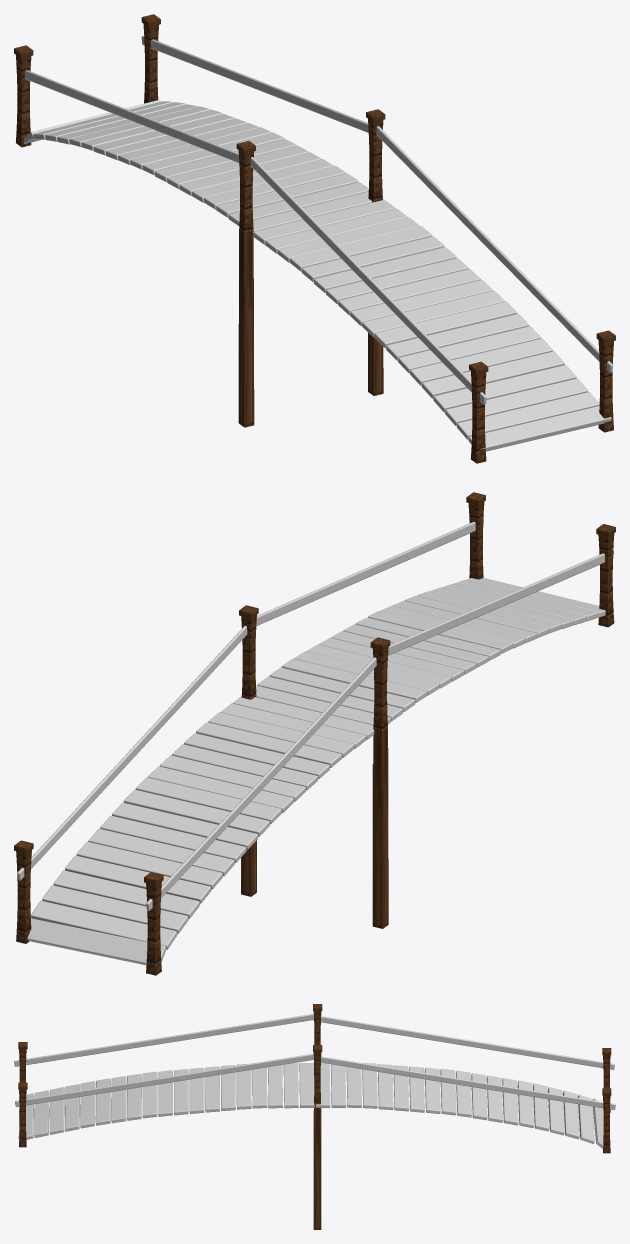
The model's file is bridge.fbx.
3 renders of one model, top to bottom at view 1: azimuth 30°, elevation 25°; view 2: azimuth 150°, elevation 25°; view 3: azimuth 270°, elevation 25°, orthographic. The views are drawn at different scales.
Parts seen in each view (by area): view 1: Würfel_5, Würfel_3_2, Würfel_1, Würfel_6_37, Würfel_3, Würfel_2_3, Würfel_6_35, Würfel_6_36, Würfel_6_34, Würfel_6_31, Würfel_6_29, Würfel_6_30 (+34 smaller); view 2: Würfel_5, Würfel_6_0, Würfel_3, Würfel_2_3, Würfel_6_1, Würfel_3_2, Würfel_6_2, Würfel_1, Würfel_6_3, Würfel_6_5, Würfel_6_9, Würfel_6_7 (+36 smaller); view 3: Würfel_1, Würfel_3_2, Würfel_3, Würfel_2_3, Würfel, Würfel_6_20, Würfel_6_19, Würfel_6_17, Würfel_6_21, Würfel_6_26, Würfel_6_31, Würfel_6_29 (+33 smaller).
Part boxes in pixels (x1,y1,x2,y2): Würfel_5: (238, 150, 254, 427); Würfel_3_2: (376, 126, 613, 372); Würfel_1: (250, 157, 486, 404); Würfel_6_37: (468, 406, 611, 451); Würfel_3: (141, 35, 368, 132); Würfel_2_3: (16, 68, 251, 167); Würfel_6_35: (445, 378, 588, 425); Würfel_6_36: (456, 392, 599, 439); Würfel_6_34: (433, 365, 576, 412); Würfel_6_31: (398, 326, 541, 373); Würfel_6_29: (374, 301, 517, 348); Würfel_6_30: (386, 314, 529, 360); Würfel_5: (372, 647, 388, 928); Würfel_6_0: (27, 918, 166, 965); Würfel_3: (17, 626, 247, 880); Würfel_2_3: (146, 657, 376, 910); Würfel_6_1: (30, 900, 177, 949); Würfel_3_2: (256, 519, 483, 625); Würfel_6_2: (42, 885, 188, 933); Würfel_1: (388, 550, 613, 655); Würfel_6_3: (53, 870, 199, 918); Würfel_6_5: (76, 841, 222, 889); Würfel_6_9: (123, 789, 269, 836); Würfel_6_7: (100, 815, 246, 862); Würfel_1: (14, 1014, 313, 1066); Würfel_3_2: (15, 1053, 313, 1106); Würfel_3: (321, 1056, 615, 1109); Würfel_2_3: (313, 1016, 614, 1069); Würfel: (313, 1052, 321, 1229); Würfel_6_20: (283, 1063, 298, 1108); Würfel_6_19: (299, 1063, 314, 1107); Würfel_6_17: (330, 1064, 346, 1107); Würfel_6_21: (268, 1065, 282, 1108); Würfel_6_26: (189, 1067, 204, 1113); Würfel_6_31: (111, 1076, 126, 1123); Würfel_6_29: (142, 1071, 157, 1118).
Bounding box in the file's own units: 423 × 776 × 2331.
1 material, 1 textured.
